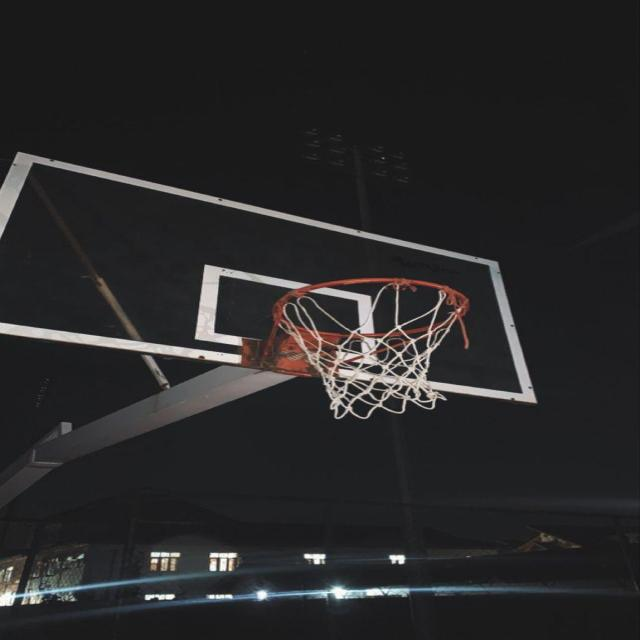hoop: (257, 269, 499, 422)
